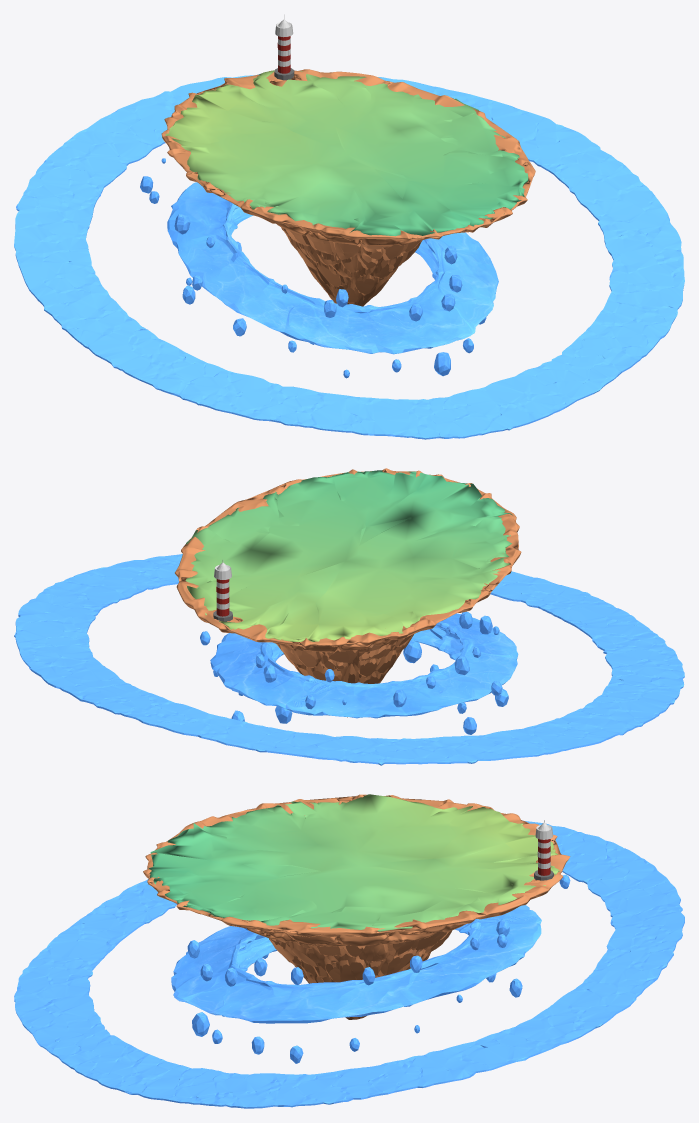
The model's file is ile_flottante_godot_nomodifier.glb.
3 renders of one model, top to bottom at view 1: azimuth 30°, elevation 25°; view 2: azimuth 150°, elevation 25°; view 3: azimuth 270°, elevation 25°, orthographic.
Parts seen in each view (by area): view 1: Circle, Circle.001, anneau, Torus, Cone, Cylinder; view 2: Circle.001, Circle, anneau, Torus, Cone, Cylinder; view 3: Circle, Circle.001, anneau, Torus, Cone, Cylinder.
Part boxes in pixels (x1,y1,x2,y2): Circle: (14,74,684,439); Circle.001: (165,70,528,236); anneau: (167,182,498,354); Torus: (161,69,535,246); Cone: (281,227,422,306); Cylinder: (274,14,294,80); Circle.001: (185,470,512,641); Circle: (14,554,684,765); anneau: (210,613,518,718); Torus: (175,468,521,652); Cone: (276,634,413,717); Cylinder: (213,560,232,621); Circle: (14,820,684,1108); Circle.001: (149,794,560,931); anneau: (171,905,541,1023); Torus: (143,794,570,946); Cone: (268,930,452,1019); Cylinder: (534,820,553,880).
Size of the model in its own units: 750 by 283 by 760.
7 materials, 4 textured.
